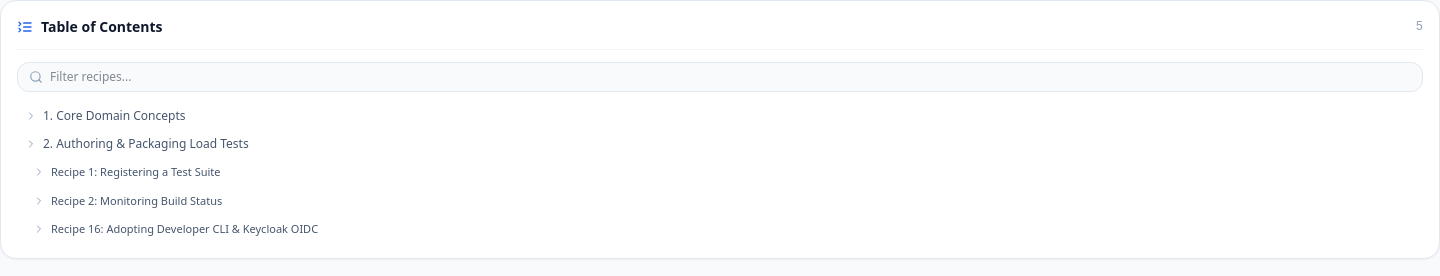
CookbookToc › displays empty state message when no headings match search
This screenshot has width=1440, height=276.
Type "nonexistent-query-12345" into the search field named "filter recipes and sections" at (720, 77), box [17,62,1423,92]
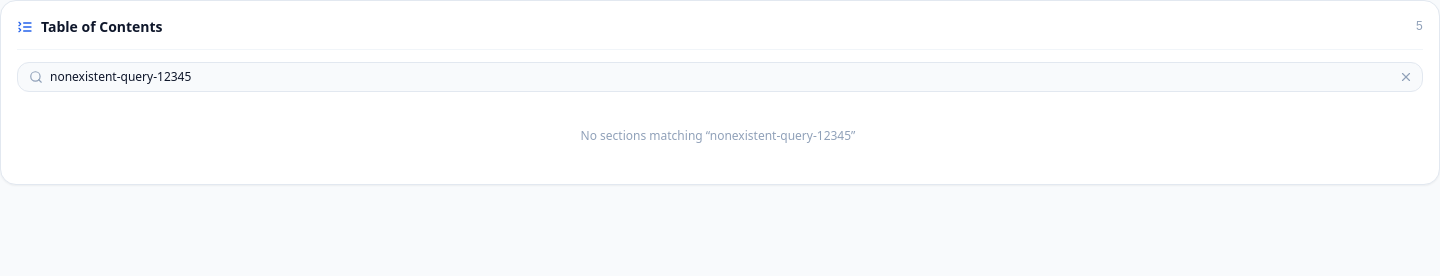
Check: the text "No sections matching “nonexistent-query-12345”" is shown, box [581,127,855,144]
